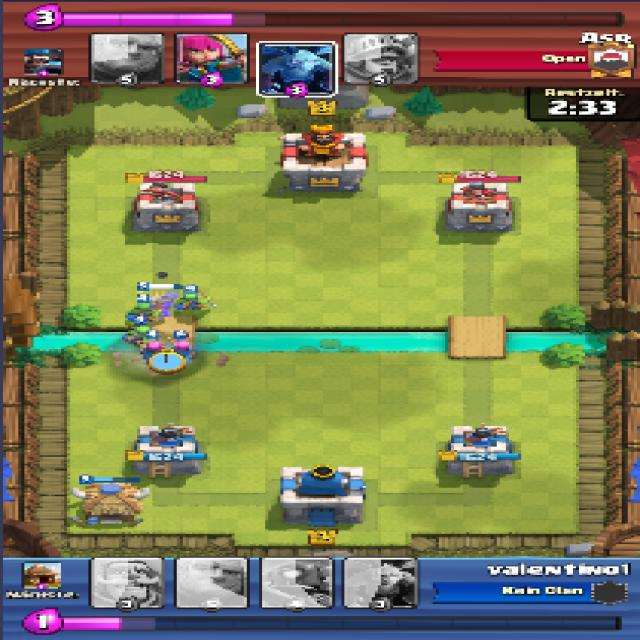Player-Archer: (166, 339, 193, 361), (139, 342, 167, 362)
Player-GoblinHut: (68, 481, 156, 526)
Player-Musketeer: (144, 290, 172, 316)
Player-SpearGoblin: (130, 300, 158, 320), (122, 325, 153, 343), (183, 291, 212, 309)
